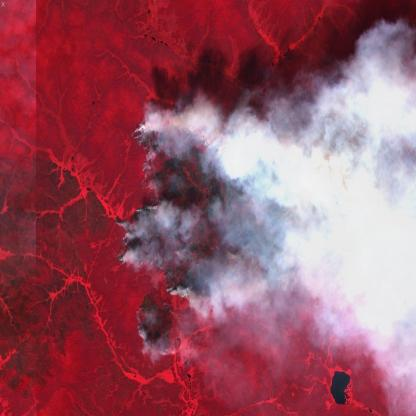fire: (113, 113, 309, 363)
